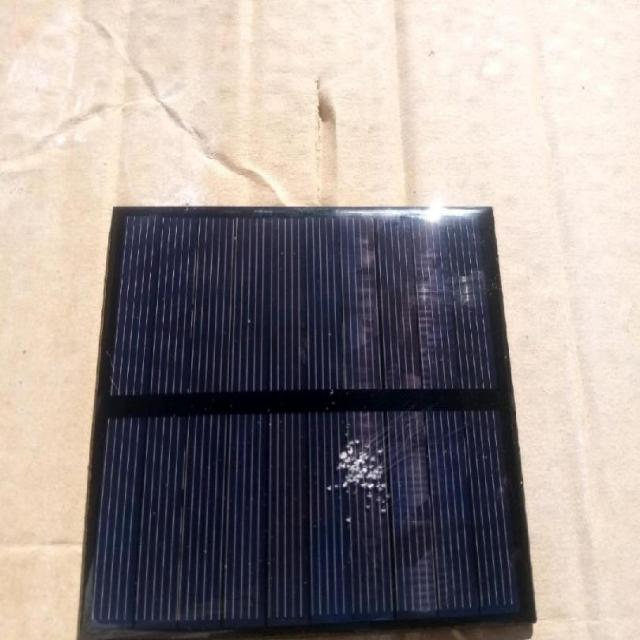faulty: (67, 195, 546, 640)
